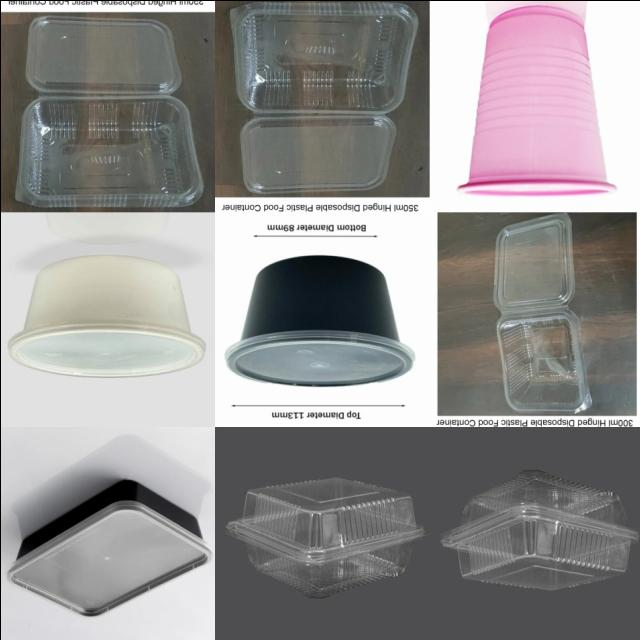plastik: (228, 0, 418, 193), (14, 15, 202, 207), (460, 5, 614, 194), (7, 480, 211, 616), (224, 255, 413, 385), (7, 255, 204, 377), (226, 477, 424, 598), (440, 470, 640, 589), (492, 213, 591, 412)
